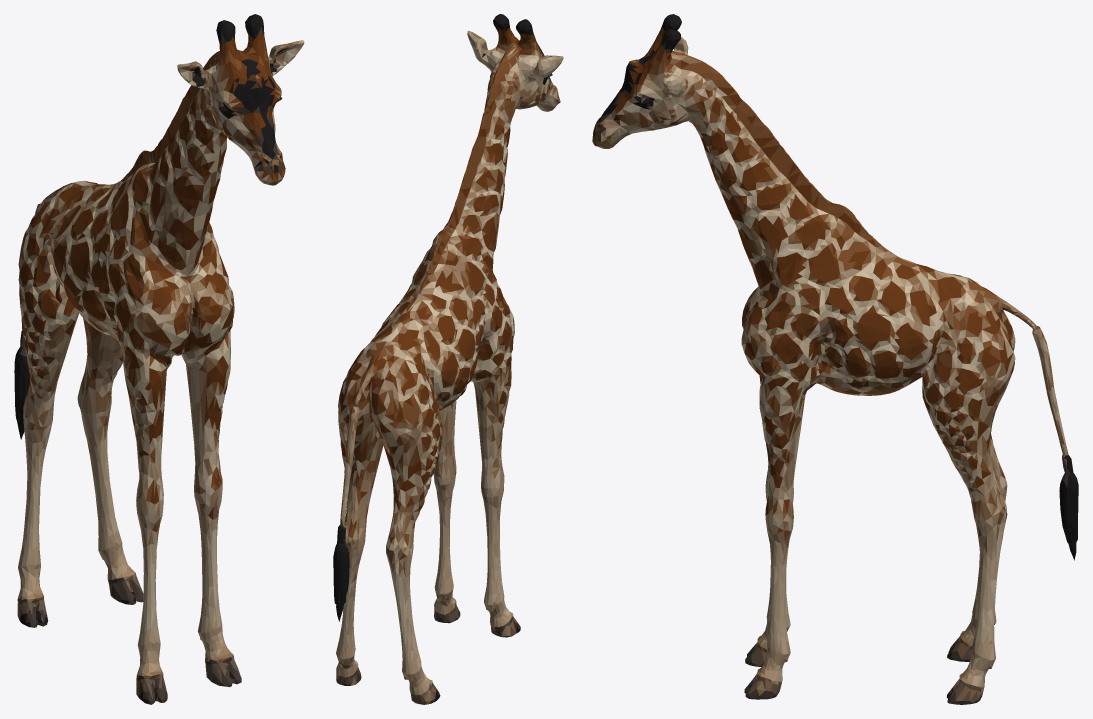
The model's file is giraffa_tippelskirchi.glb.
3 renders of one model, left to right at view 1: azimuth 30°, elevation 25°; view 2: azimuth 150°, elevation 25°; view 3: azimuth 270°, elevation 25°, orthographic. The views are drawn at different scales.
Parts seen in each view (by area): view 1: lod0; view 2: lod0; view 3: lod0.
Part boxes in pixels (x1,y1,x2,y2): lod0: (14,14,304,704); lod0: (333,14,563,704); lod0: (592,14,1078,704).
Size of what is drawn, in the model's own units: 0.7725 by 4.27 by 2.86.
